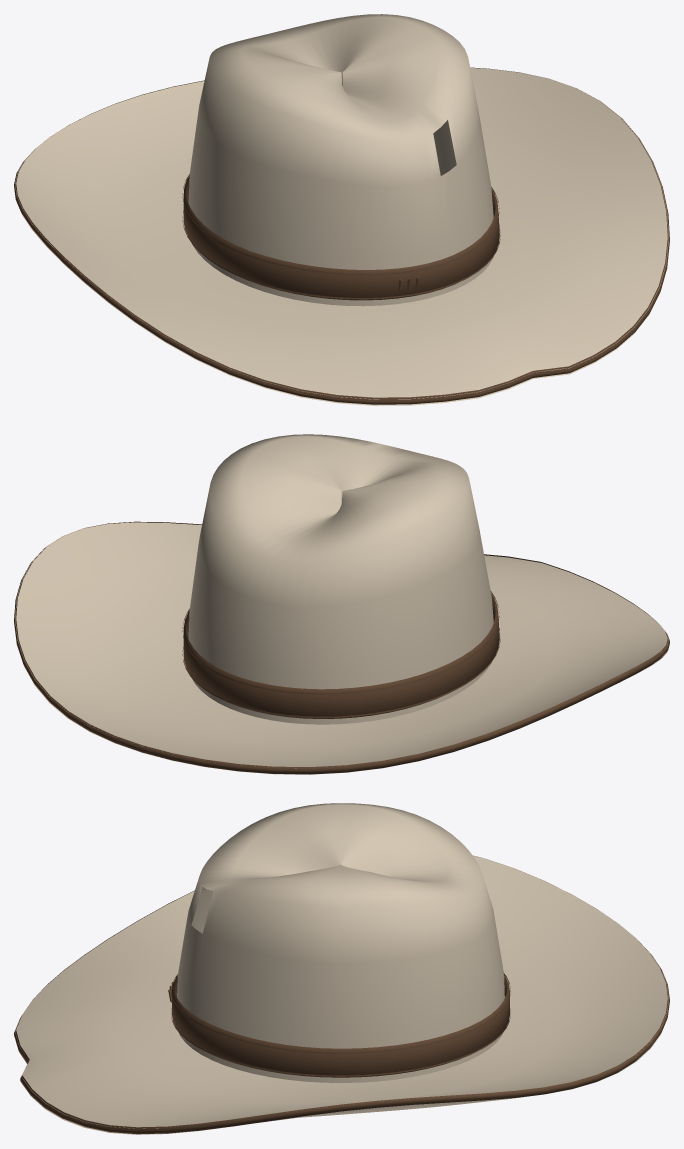
Rendered from holed-stetson.glb.
The picture shows the model from 3 angles, top to bottom: view 1: azimuth 30°, elevation 25°; view 2: azimuth 150°, elevation 25°; view 3: azimuth 270°, elevation 25°; orthographic projection. The views are drawn at different scales.
Visible parts, largest first — view 1: Felt upper brim, Felt crown, Fitted hatband, Bound brim edge, Felt under brim, Sewn band border.001, Sewn band border; view 2: Felt upper brim, Felt crown, Fitted hatband, Bound brim edge, Sewn band border.001, Sewn band border; view 3: Felt crown, Felt upper brim, Fitted hatband, Bound brim edge, Felt under brim, Sewn band border.001, Sewn band border.
Part boxes in pixels (left/top/right/bottom): Felt upper brim: left=15, top=68, right=668, bottom=399; Felt crown: left=188, top=14, right=493, bottom=306; Fitted hatband: left=183, top=176, right=499, bottom=300; Bound brim edge: left=14, top=67, right=669, bottom=404; Felt under brim: left=17, top=203, right=659, bottom=405; Sewn band border.001: left=182, top=173, right=499, bottom=275; Sewn band border: left=182, top=211, right=500, bottom=299; Felt upper brim: left=15, top=522, right=668, bottom=768; Felt crown: left=188, top=434, right=493, bottom=724; Fitted hatband: left=183, top=593, right=499, bottom=718; Bound brim edge: left=14, top=521, right=669, bottom=774; Sewn band border.001: left=182, top=591, right=499, bottom=694; Sewn band border: left=182, top=628, right=500, bottom=718; Felt crown: left=177, top=803, right=504, bottom=1082; Felt upper brim: left=15, top=856, right=668, bottom=1128; Fitted hatband: left=172, top=975, right=509, bottom=1077; Bound brim edge: left=14, top=855, right=669, bottom=1134; Felt under brim: left=19, top=1032, right=661, bottom=1134; Sewn band border.001: left=171, top=973, right=510, bottom=1053; Sewn band border: left=171, top=1008, right=510, bottom=1076.
Size of the model in its own units: 0.3712 by 0.1373 by 0.3899.
